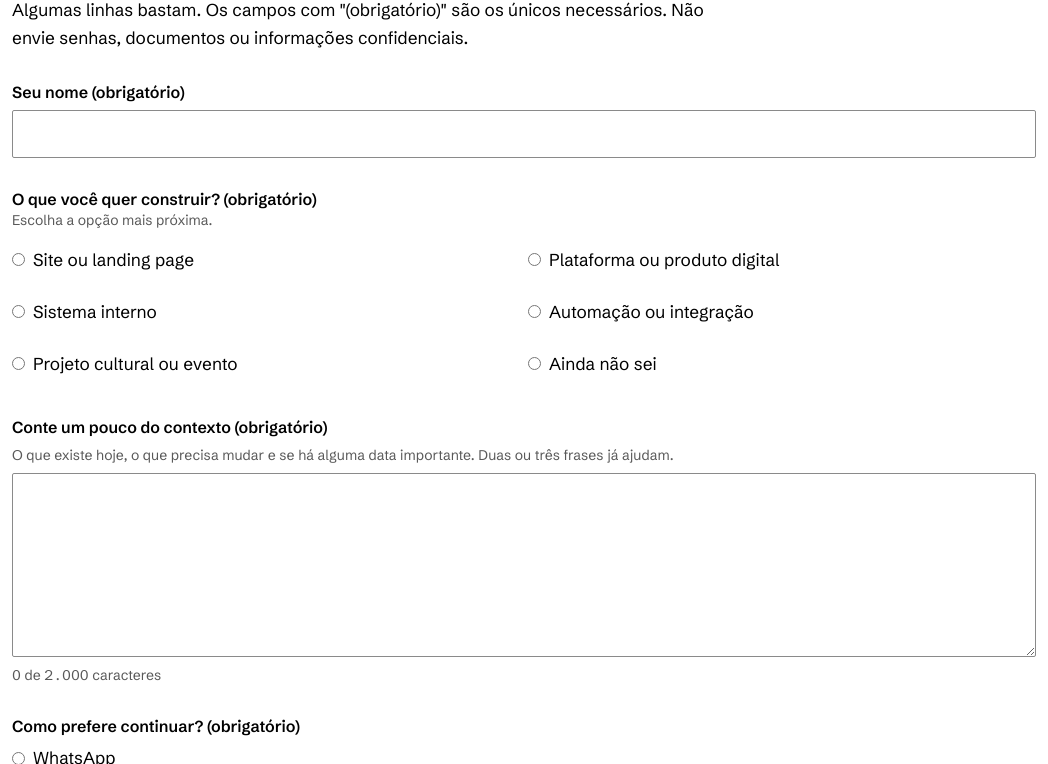
LeadForm (ilha) › erro vindo do servidor aparece no campo e apaga a chave
Type "Ana" into the field labelled "Seu nome (obrigatório)".
click(524, 134); type("Ana")  # box [12,110,1036,158]
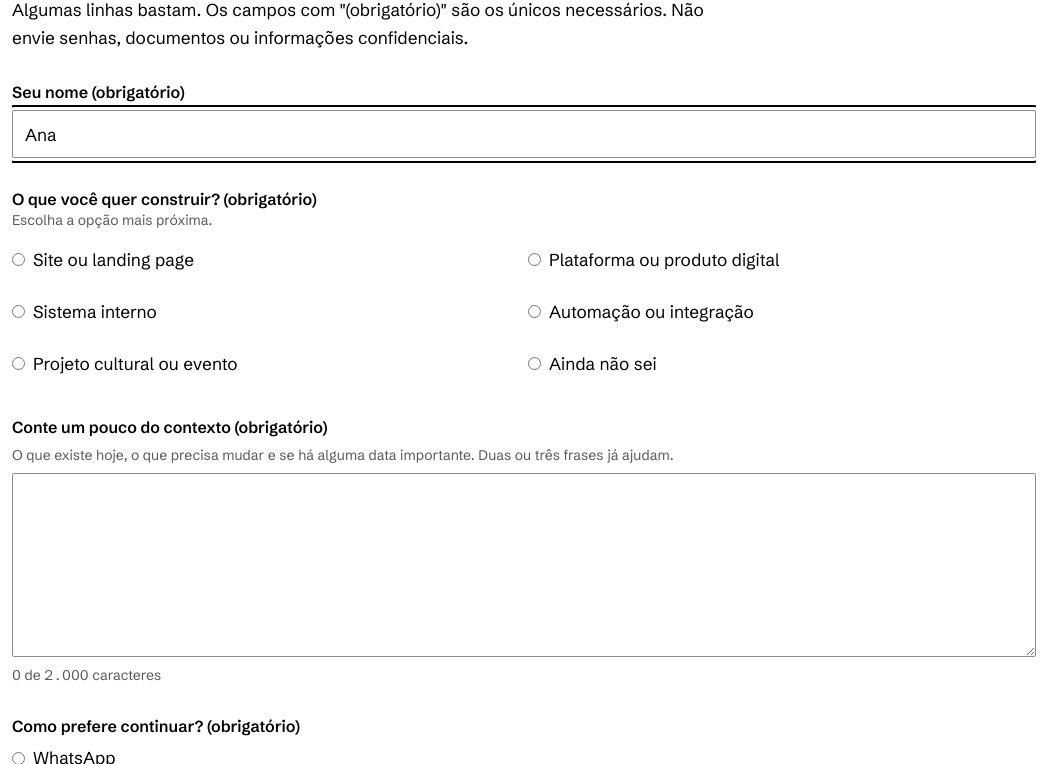
Click the radio button labelled "Site ou landing page".
click(18, 260)  # box [12,253,25,266]
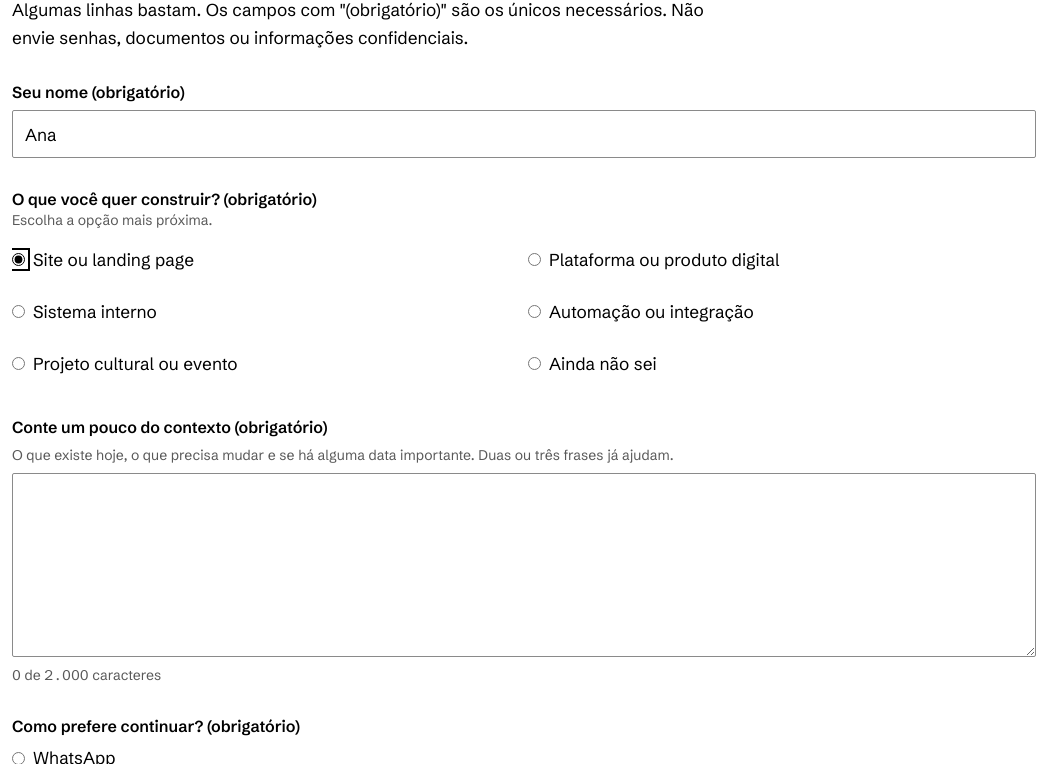
Type "Temos um site antigo e precisamos renovar." into the text box labelled "Conte um pouco do contexto (obrigatório)".
click(524, 565); type("Temos um site antigo e precisamos renovar.")  # box [12,473,1036,657]
(page scrolled)
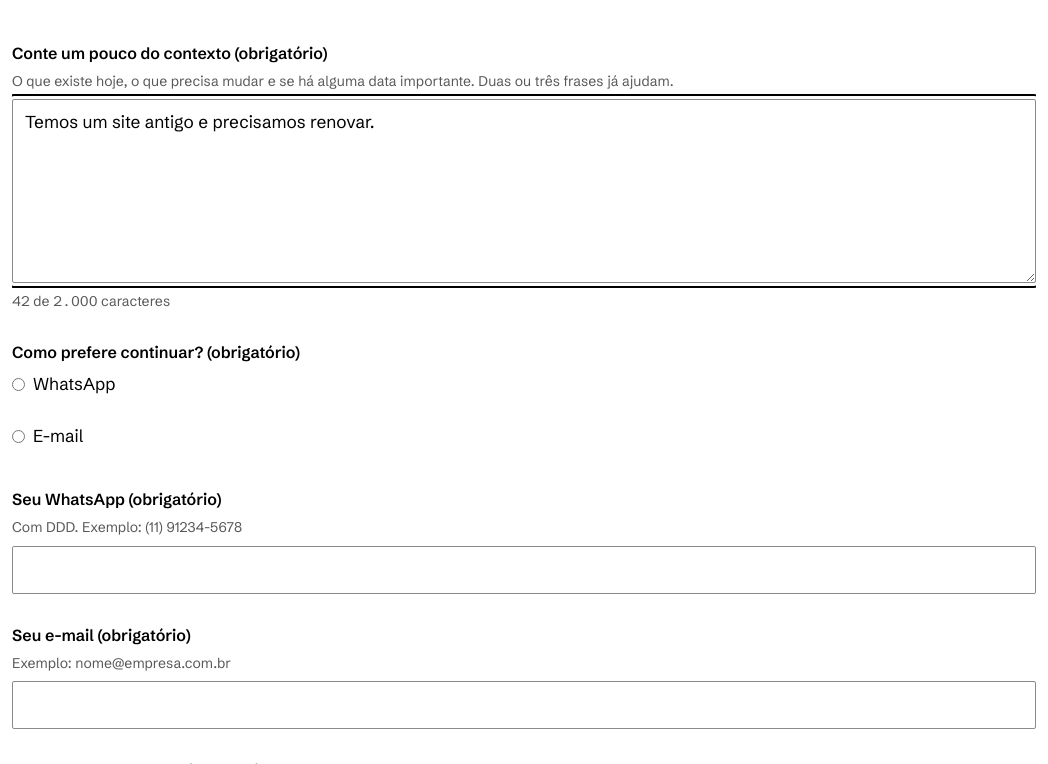
Click the radio button labelled "E-mail".
click(18, 436)  # box [12,430,25,443]
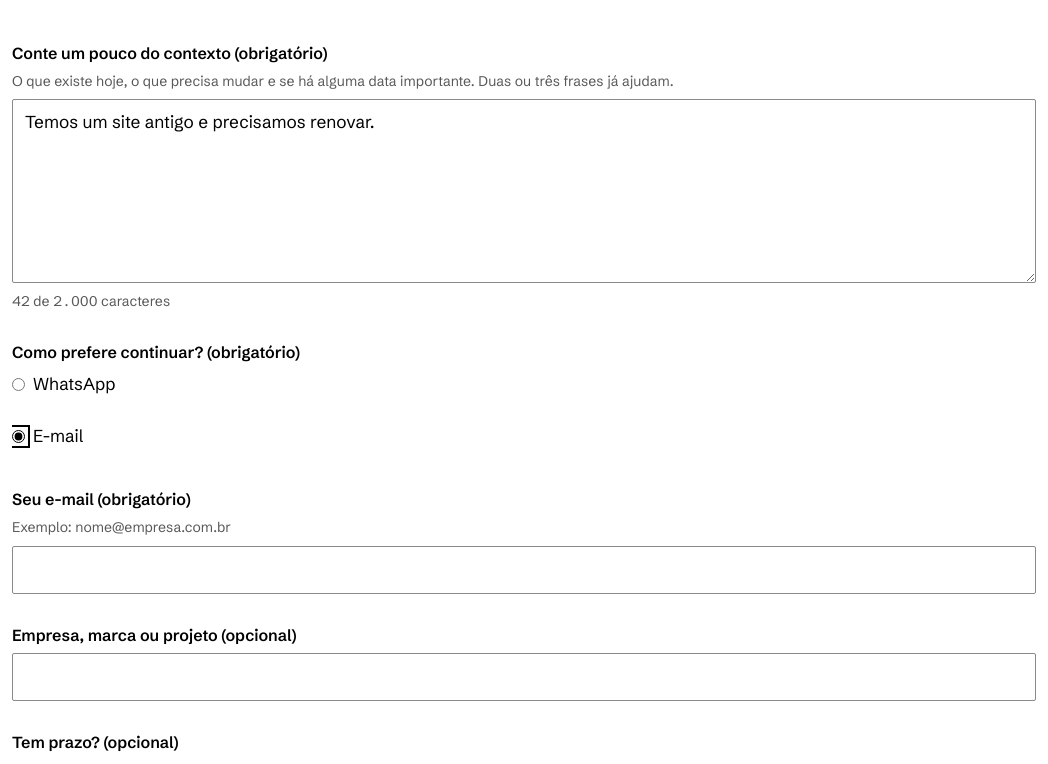
Type "ana@exemplo.com" into the field labelled "Seu e-mail (obrigatório)".
click(524, 570); type("ana@exemplo.com")  # box [12,546,1036,594]
(page scrolled)
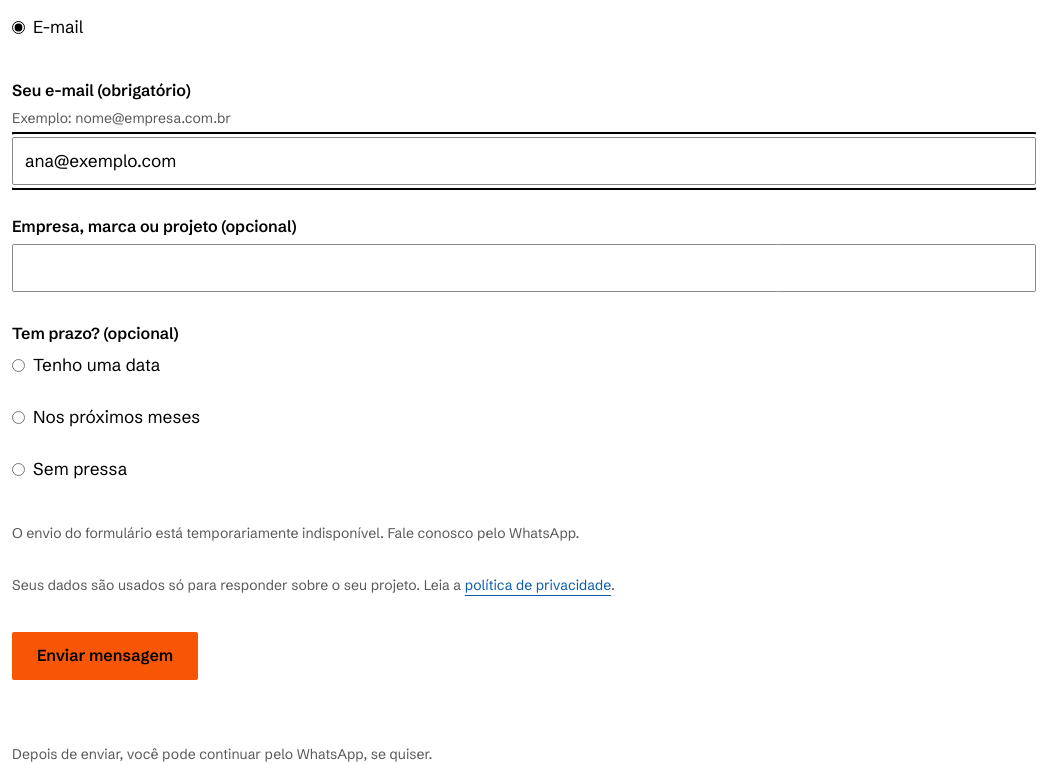
Click the button "Enviar mensagem".
click(105, 656)  # box [12,632,198,680]
(page scrolled)
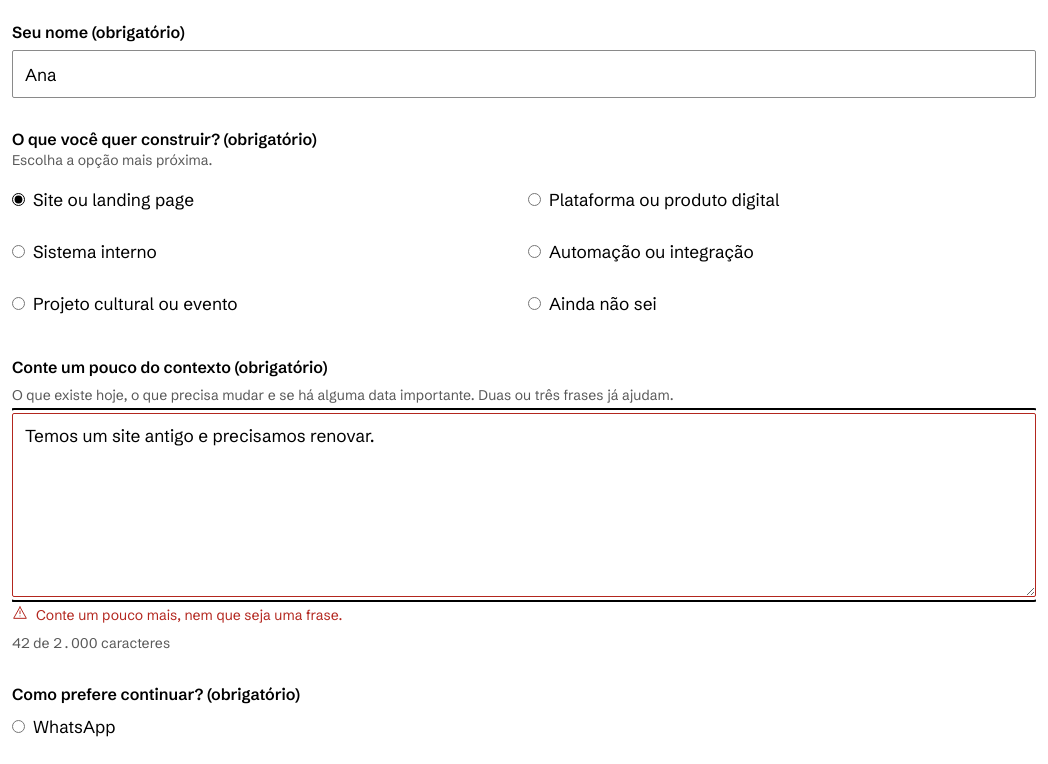
Now the text "Conte um pouco mais, nem que seja uma frase." is shown, box [12,605,342,624]
